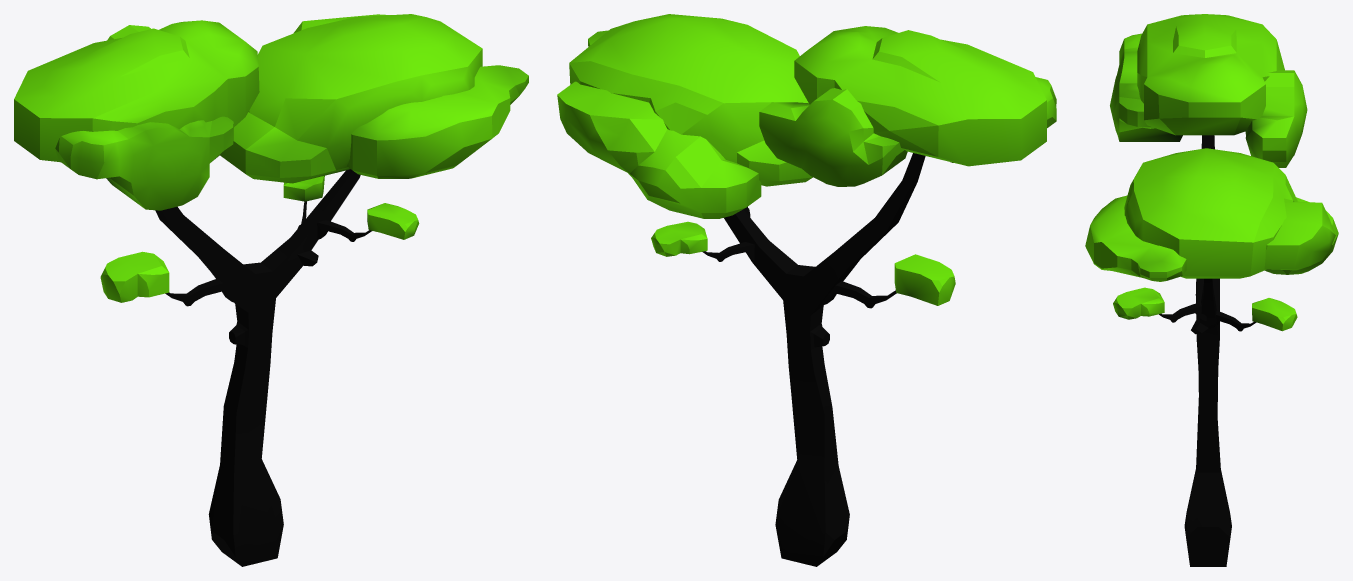
File: FOL_Foliage_06.FBX
3 renders of one model, left to right at view 1: azimuth 30°, elevation 25°; view 2: azimuth 150°, elevation 25°; view 3: azimuth 270°, elevation 25°, orthographic. The views are drawn at different scales.
Parts seen in each view (by area): view 1: FOL_Foliage_06; view 2: FOL_Foliage_06; view 3: FOL_Foliage_06.
Boxes of the visible parts, x1=… form: FOL_Foliage_06: x1=14, y1=14, x2=528, y2=566; FOL_Foliage_06: x1=557, y1=14, x2=1056, y2=566; FOL_Foliage_06: x1=1085, y1=14, x2=1338, y2=566.
Size of the model in its own units: 0.0833 by 0.1748 by 0.1586.
